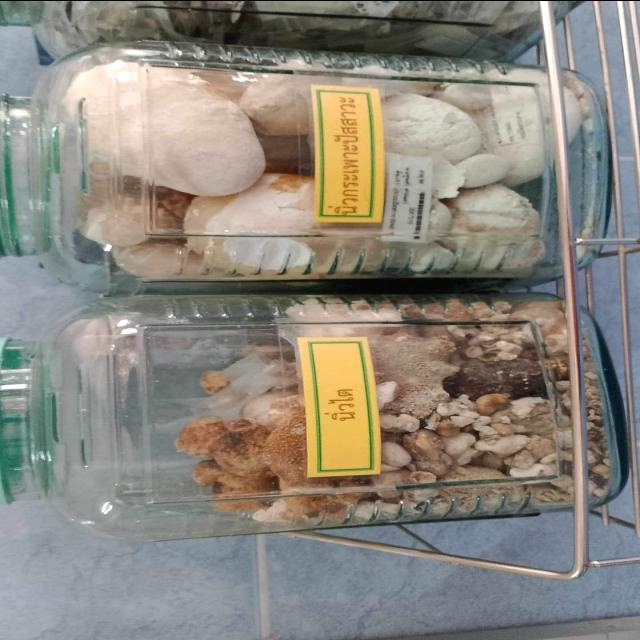General: (3, 8, 635, 579)
Pathological: (10, 292, 612, 542), (23, 40, 603, 288)
